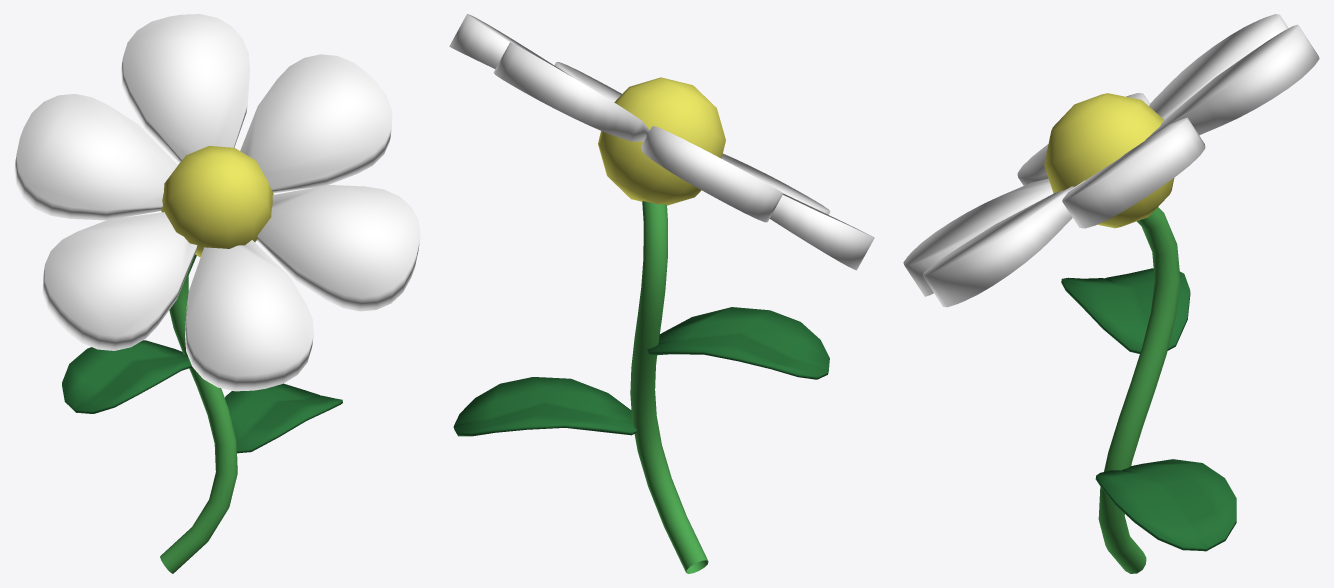
The model's file is flower.glb.
The picture shows the model from 3 angles, left to right: view 1: azimuth 30°, elevation 25°; view 2: azimuth 150°, elevation 25°; view 3: azimuth 270°, elevation 25°; orthographic projection. The views are drawn at different scales.
Parts seen in each view (by area): view 1: petal, core, leaf2, stem, leaf1; view 2: petal, stem, core, leaf2, leaf1; view 3: petal, leaf1, stem, core, leaf2.
Part boxes in pixels (x1,y1,x2,y2): petal: (14, 14, 420, 391); core: (161, 146, 273, 257); leaf2: (62, 340, 192, 413); stem: (160, 254, 237, 573); leaf1: (225, 383, 342, 453); petal: (449, 14, 874, 270); stem: (630, 201, 708, 573); core: (598, 77, 725, 205); leaf2: (647, 307, 829, 379); leaf1: (453, 377, 636, 436); petal: (903, 14, 1319, 307); leaf1: (1095, 459, 1236, 551); stem: (1098, 207, 1180, 573); core: (1044, 93, 1174, 228); leaf2: (1061, 268, 1190, 353).
Bounding box in the file's own units: 24.2 × 32.62 × 21.24.
Materials: 1 (1 with a texture image).
